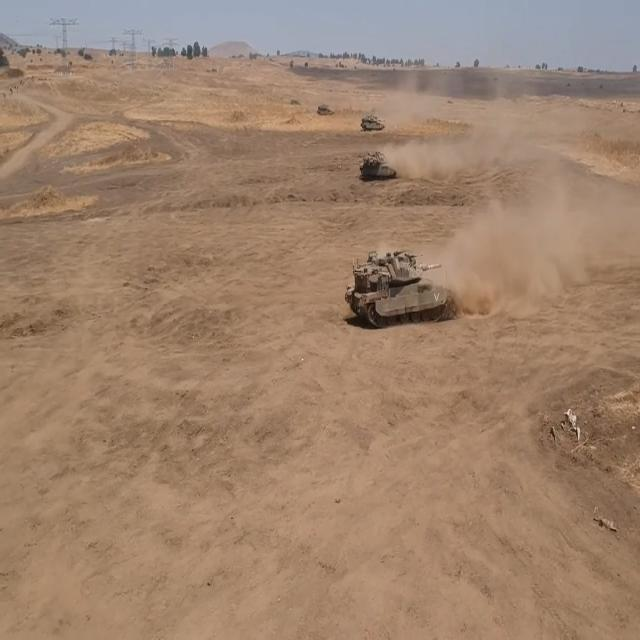tank: (342, 254, 458, 330), (358, 148, 398, 189), (356, 100, 385, 142), (317, 93, 334, 123)
